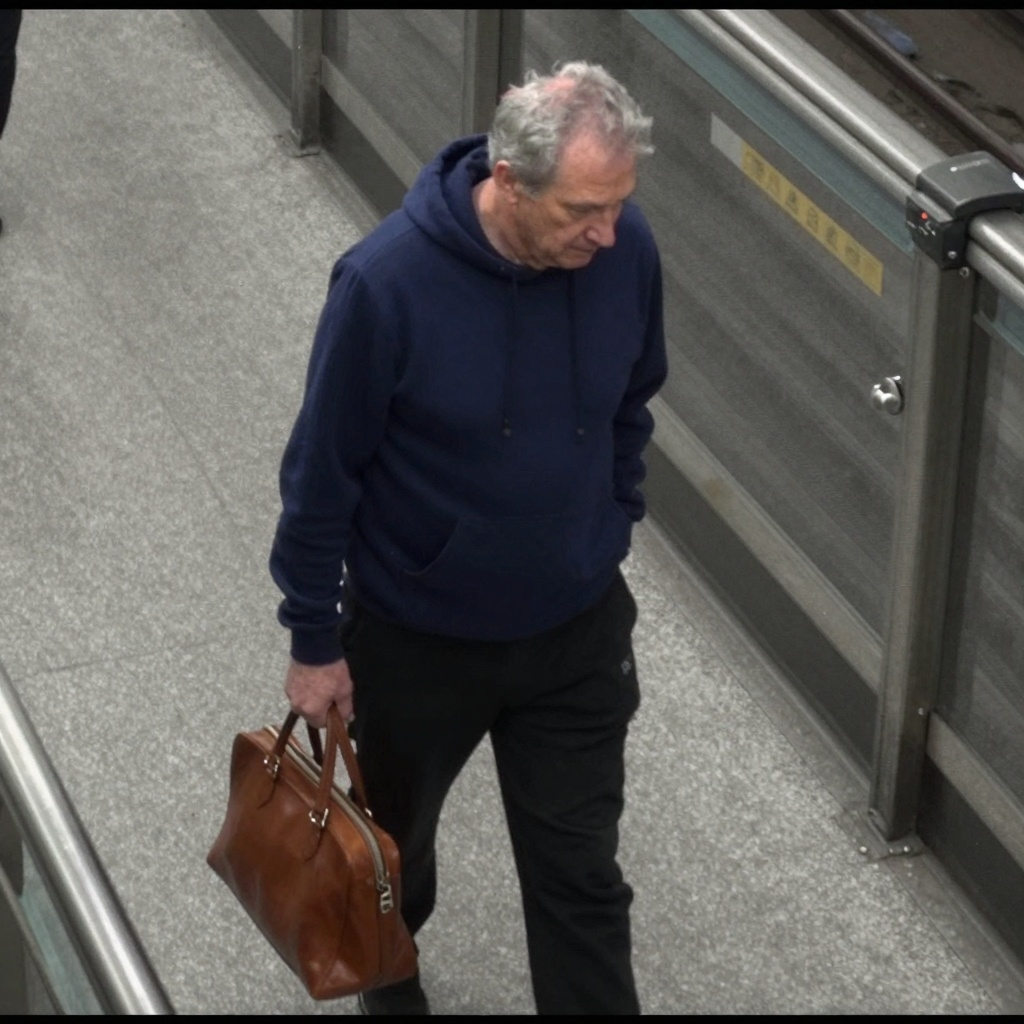Normal activity: (267, 61, 673, 997)
